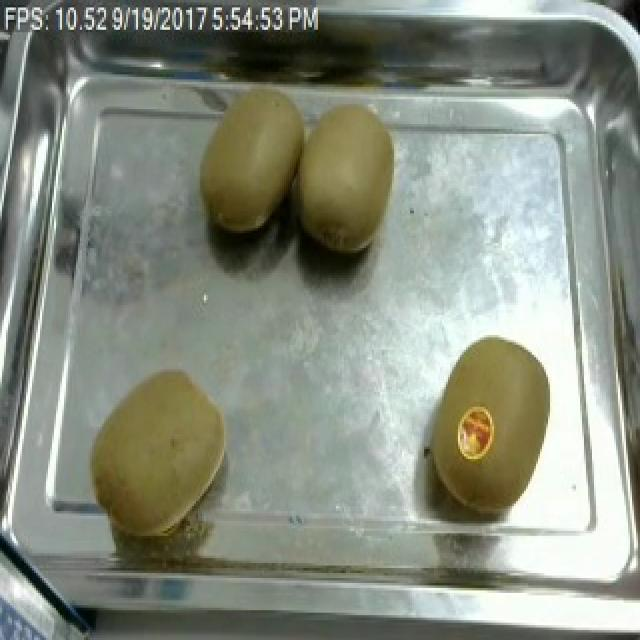Fruit: (80, 360, 236, 546), (422, 330, 562, 521), (282, 87, 408, 268), (190, 77, 310, 243)
